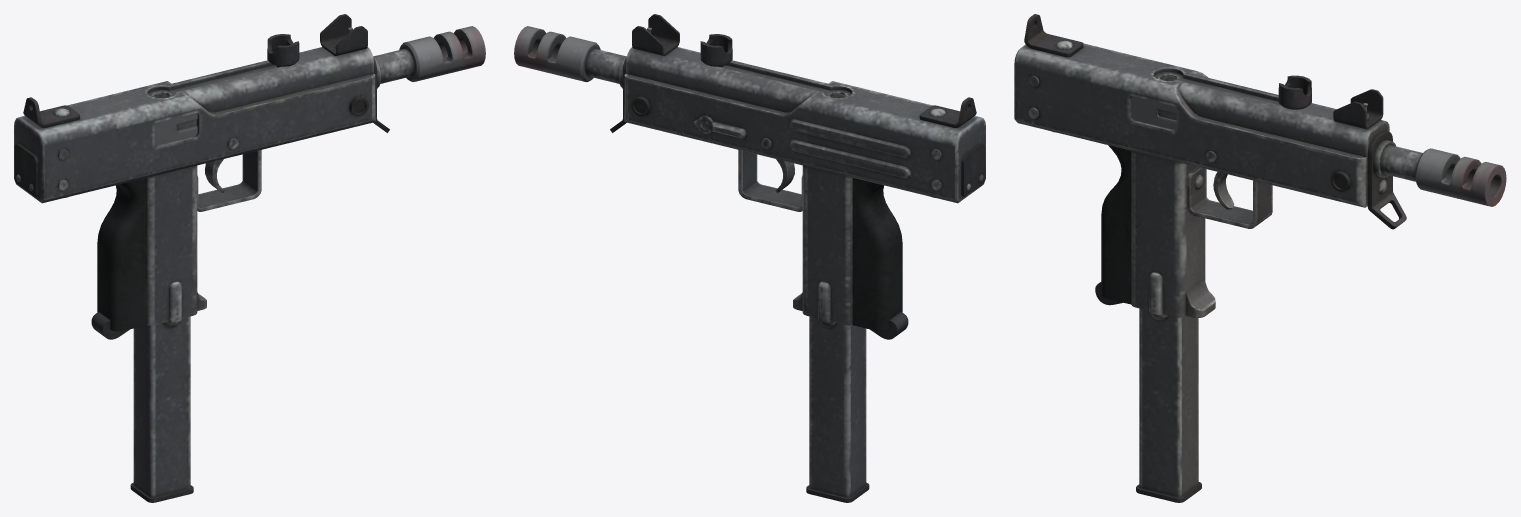
File: dualsmg.47e511209d.glb
3 views of the same model, side by side, from view 1: azimuth 30°, elevation 25°; view 2: azimuth 150°, elevation 25°; view 3: azimuth 330°, elevation 25° (orthographic). The views are drawn at different scales.
Parts seen in each view (by area): view 1: base, mag, base_2, bolt; view 2: base, mag, bolt; view 3: base, mag, base_2, bolt.
Part boxes in pixels (x1,y1,x2,y2): base: (14,14,485,339); mag: (130,316,193,502); base_2: (154,113,197,145); bolt: (267,34,299,67); base: (514,14,985,339); mag: (806,316,869,502); bolt: (700,34,732,67); base: (1014,14,1506,318); mag: (1136,308,1201,502); base_2: (1131,96,1176,129); bolt: (1278,75,1311,109).
Bounding box in the file's own units: 0.3635 × 0.3252 × 0.0491.
1 material, 1 textured.
